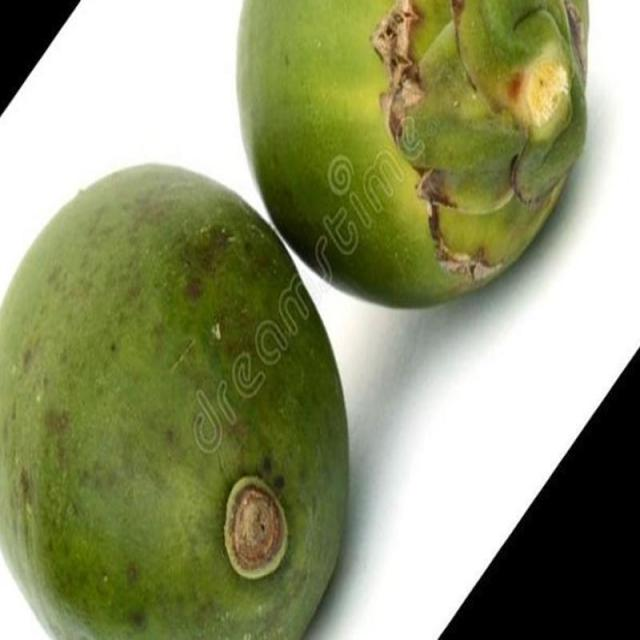good: (0, 164, 350, 639), (235, 0, 588, 312)
